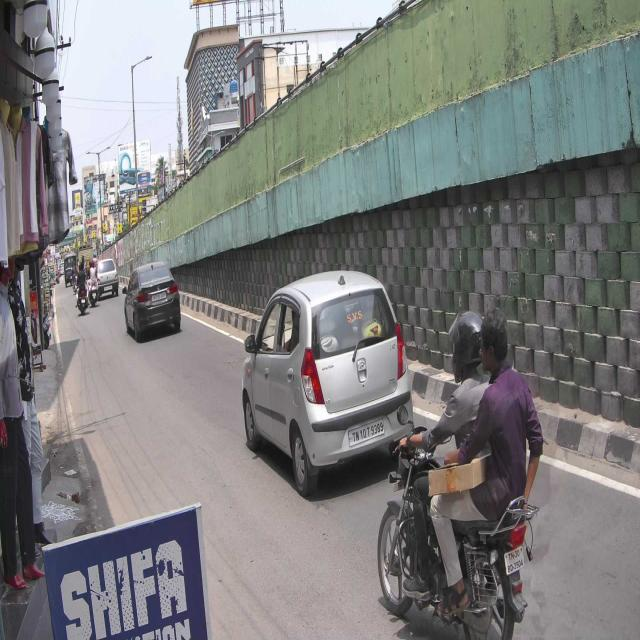double_rider: (376, 306, 548, 640)
